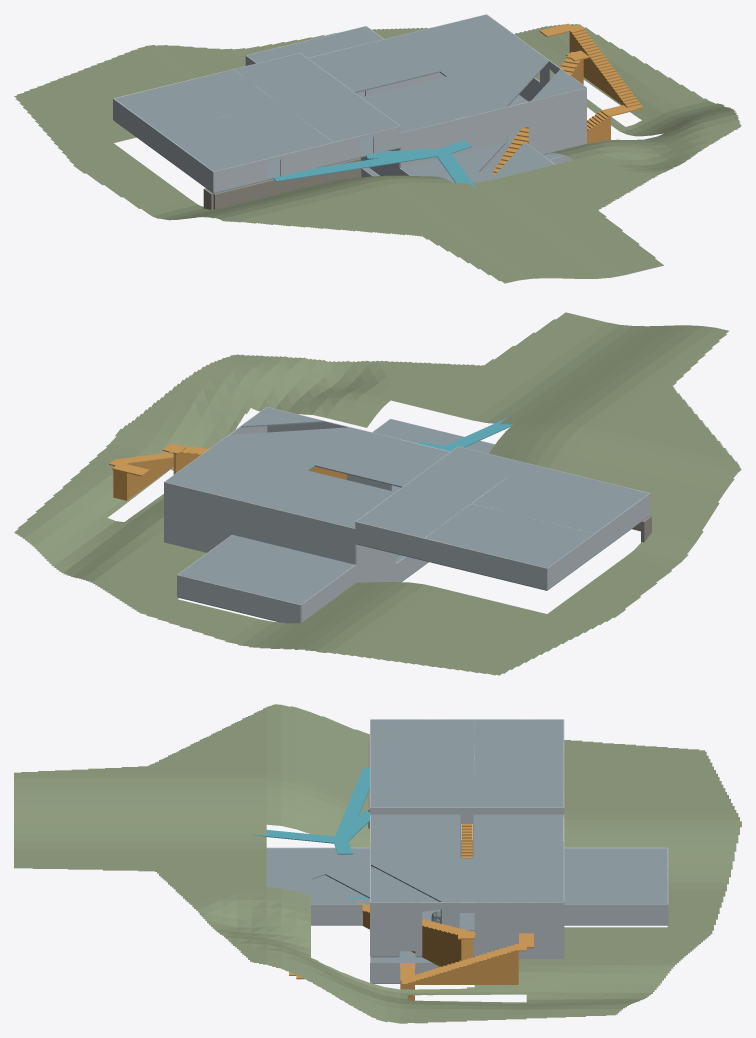
File: open-circulation.glb
3 views of the same model, one above another, from view 1: azimuth 30°, elevation 25°; view 2: azimuth 150°, elevation 25°; view 3: azimuth 270°, elevation 25° (orthographic). The views are drawn at different scales.
Parts seen in each view (by area): view 1: Saved editor occupied-room terrain WLD-09, Ceiling cap west-stair, Ceiling cap control, Opened stair shell Wall turbine S.001, Ceiling cap office, Restored ceiling-cap turbine 0 region0, Ceiling cap turbine.006, Ceiling cap turbine.003, Ceiling cap turbine, Ceiling cap plant, Ceiling cap turbine.004, Flat route shell Bayed shell Wall turbine S (+15 smaller); view 2: Saved editor occupied-room terrain WLD-09, Ceiling cap west-stair, Ceiling cap control, Ceiling cap plant, Flat route shell Wall turbine N.001, Ceiling cap office, Restored ceiling-cap turbine 0 region0, Ceiling cap turbine.006, Wall office N, Wall plant N, Ceiling cap turbine, Ceiling cap turbine.003 (+12 smaller); view 3: Saved editor occupied-room terrain WLD-09, Opened stair shell Wall turbine E, Ceiling cap west-stair, Ceiling cap control, Ceiling cap plant, Ceiling cap office, Restored ceiling-cap turbine 0 region0, Ceiling cap turbine.006, Ceiling cap turbine, Ceiling cap turbine.003, Wall plant E, Ceiling cap turbine.004 (+13 smaller).
Part boxes in pixels (x1,y1,x2,y2): Saved editor occupied-room terrain WLD-09: [14, 24, 741, 283]; Ceiling cap west-stair: [234, 53, 399, 142]; Ceiling cap control: [160, 103, 332, 171]; Opened stair shell Wall turbine S.001: [465, 88, 586, 168]; Ceiling cap office: [115, 69, 278, 131]; Restored ceiling-cap turbine 0 region0: [409, 54, 548, 119]; Ceiling cap turbine.006: [394, 14, 531, 70]; Ceiling cap turbine.003: [362, 86, 454, 132]; Ceiling cap turbine: [308, 46, 400, 91]; Ceiling cap plant: [246, 26, 382, 63]; Ceiling cap turbine.004: [355, 37, 438, 79]; Flat route shell Bayed shell Wall turbine S: [400, 120, 455, 168]; Saved editor occupied-room terrain WLD-09: [14, 312, 741, 675]; Ceiling cap west-stair: [356, 446, 526, 537]; Ceiling cap control: [472, 463, 648, 533]; Ceiling cap plant: [178, 535, 354, 604]; Flat route shell Wall turbine N.001: [164, 482, 288, 550]; Ceiling cap office: [425, 503, 593, 567]; Restored ceiling-cap turbine 0 region0: [221, 427, 400, 475]; Ceiling cap turbine.006: [165, 448, 306, 505]; Wall office N: [424, 538, 547, 589]; Wall plant N: [177, 575, 300, 623]; Ceiling cap turbine: [300, 481, 394, 528]; Ceiling cap turbine.003: [355, 440, 449, 485]; Saved editor occupied-room terrain WLD-09: [14, 704, 741, 1023]; Opened stair shell Wall turbine E: [370, 902, 563, 956]; Ceiling cap west-stair: [370, 776, 563, 807]; Ceiling cap control: [370, 719, 474, 776]; Ceiling cap plant: [564, 848, 667, 904]; Ceiling cap office: [474, 719, 563, 776]; Restored ceiling-cap turbine 0 region0: [370, 840, 460, 902]; Ceiling cap turbine.006: [475, 858, 563, 902]; Ceiling cap turbine: [475, 814, 563, 840]; Ceiling cap turbine.003: [370, 814, 458, 840]; Wall plant E: [564, 904, 667, 924]; Ceiling cap turbine.004: [475, 840, 563, 858].
Bounding box in the file's own units: 85 × 13.16 × 98.
Materials: 32 (17 with a texture image).
